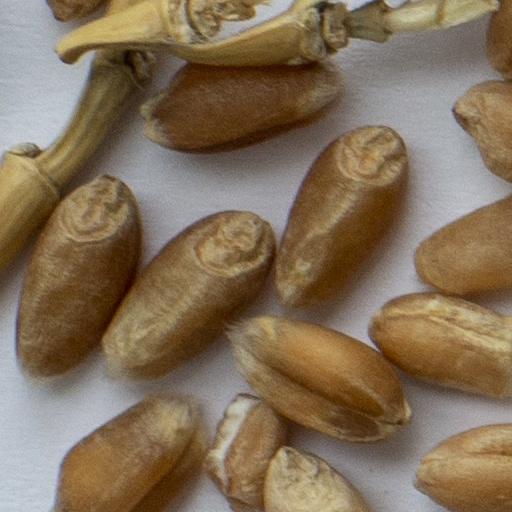Wheat-grain-damaged-poly: (205, 395, 284, 510)
